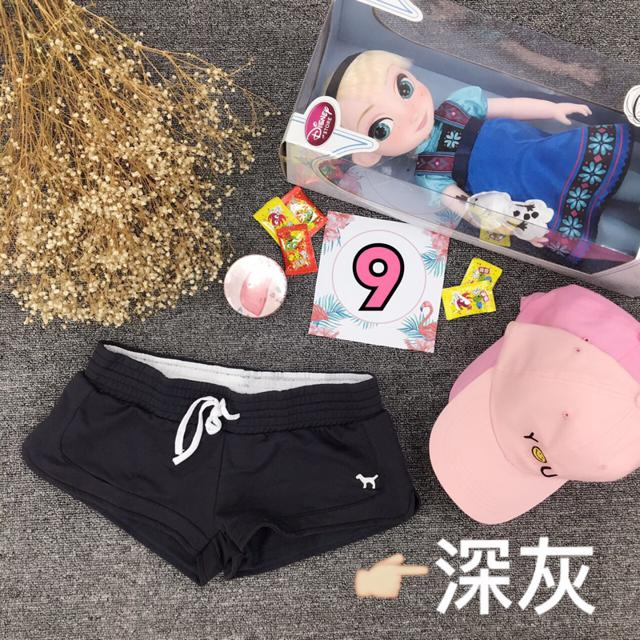Shorts: (25, 336, 429, 586)
